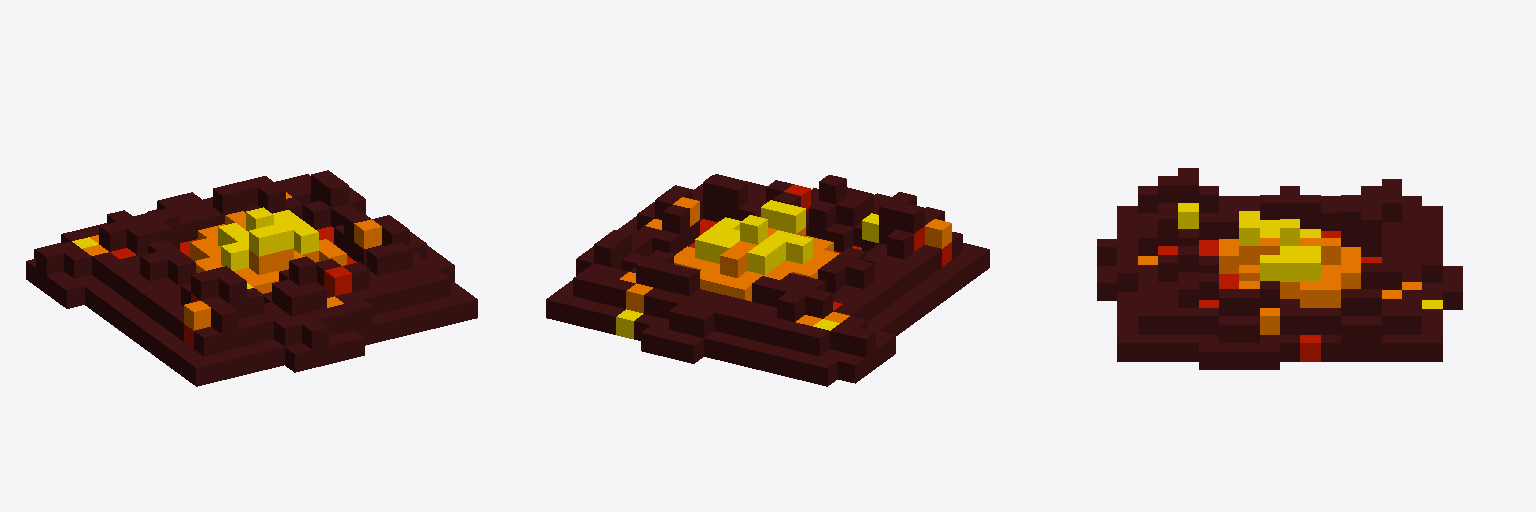
The picture shows the model from 3 angles: view 1: azimuth 30°, elevation 25°; view 2: azimuth 150°, elevation 25°; view 3: azimuth 270°, elevation 25°; orthographic projection.
Visible parts, largest first — view 1: MagmaLordVolcanoTest3; view 2: MagmaLordVolcanoTest3; view 3: MagmaLordVolcanoTest3.
Boxes of the visible parts, x1,y1,x2,y2 form: MagmaLordVolcanoTest3: [26, 170, 477, 386]; MagmaLordVolcanoTest3: [546, 174, 989, 386]; MagmaLordVolcanoTest3: [1097, 168, 1462, 369].
Bounding box in the file's own units: 18 × 4 × 18.
Materials: 1 (1 with a texture image).